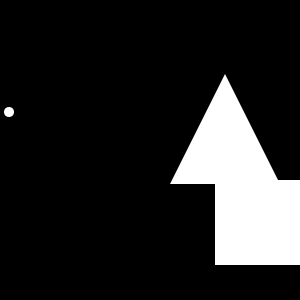circle: (215, 180, 300, 265)
rectangle: (4, 107, 14, 117)
triangle: (170, 74, 280, 184)
